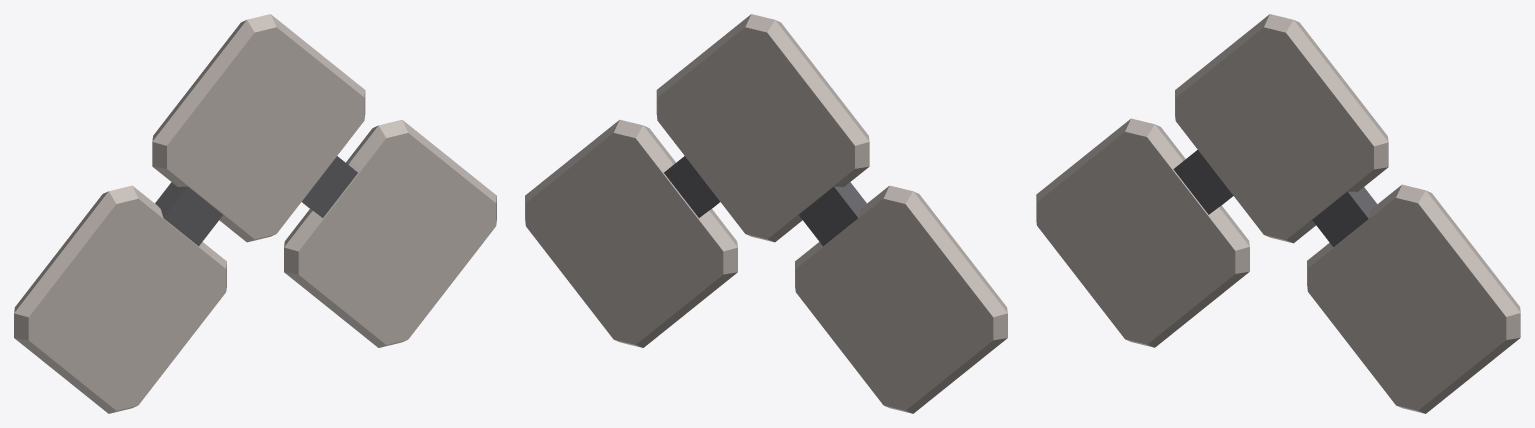
File: SM_Prop_Street_Light_03.fbx
3 renders of one model, left to right at view 1: azimuth 30°, elevation 25°; view 2: azimuth 150°, elevation 25°; view 3: azimuth 330°, elevation 25°, orthographic.
Parts seen in each view (by area): view 1: SM_Prop_Street_Light_03; view 2: SM_Prop_Street_Light_03; view 3: SM_Prop_Street_Light_03.
Boxes of the visible parts, x1=… form: SM_Prop_Street_Light_03: x1=14, y1=14, x2=496, y2=413; SM_Prop_Street_Light_03: x1=525, y1=14, x2=1007, y2=413; SM_Prop_Street_Light_03: x1=1036, y1=14, x2=1520, y2=413.
Bounding box in the file's own units: 104 × 74.03 × 5.14.
